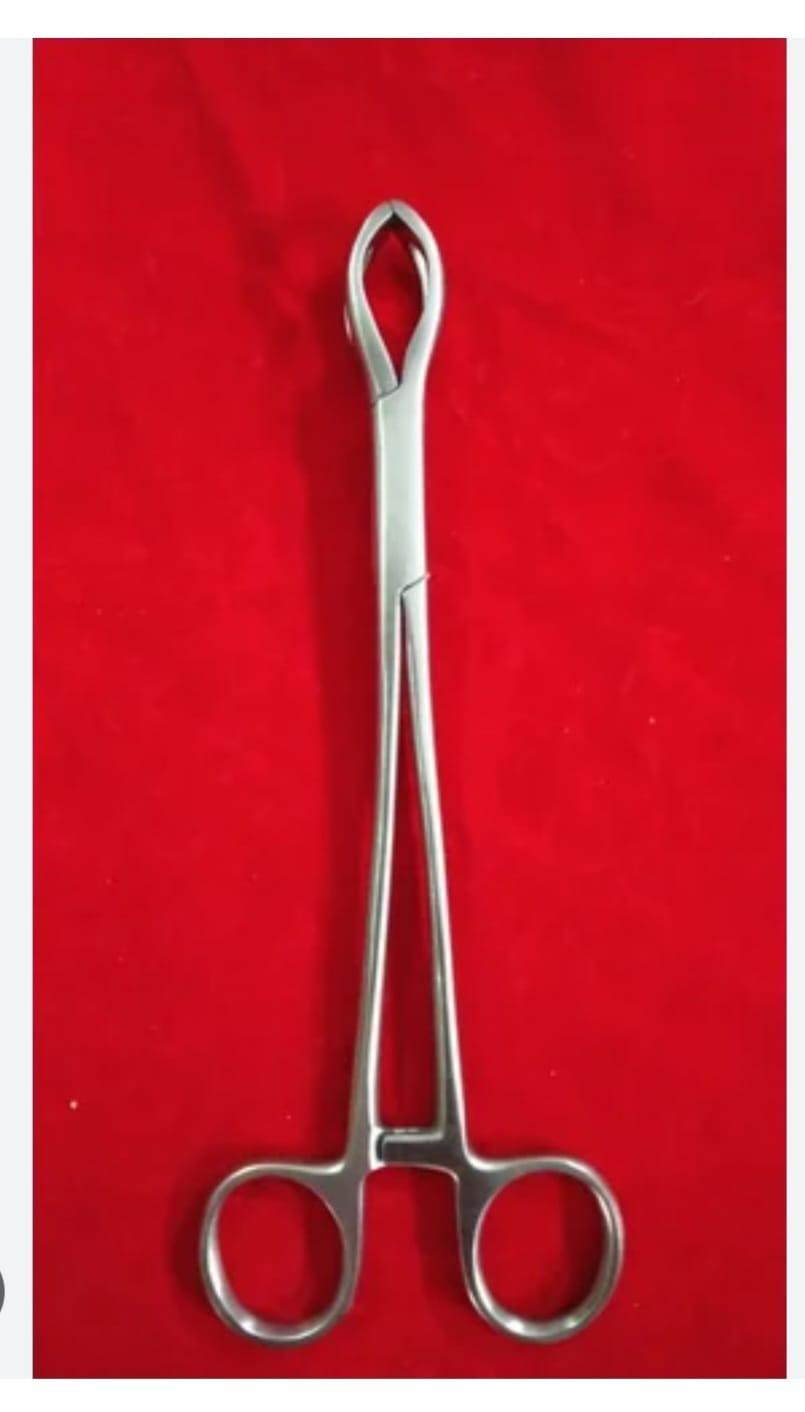Lane Tissue Forceps: (212, 194, 640, 1354)
